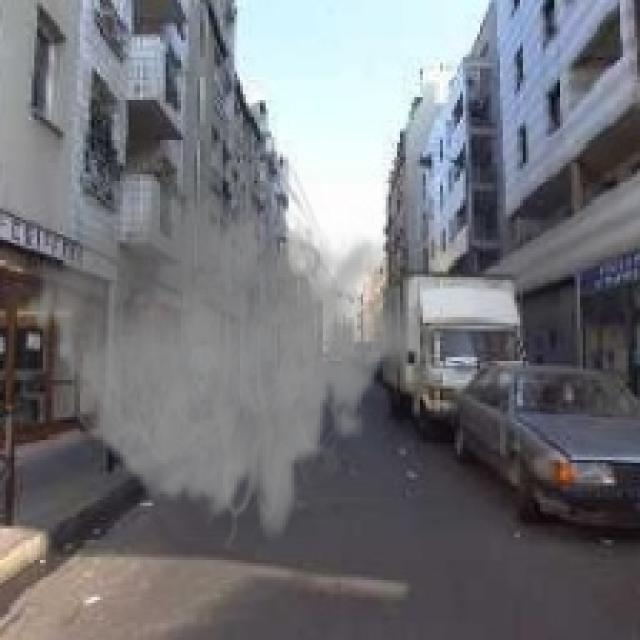Smoke: (28, 142, 426, 554)
